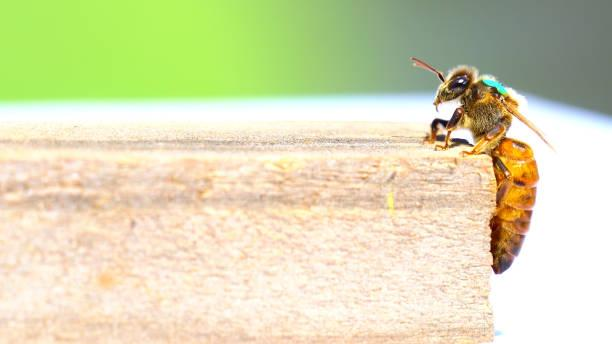Queen-Bee: (406, 25, 561, 278), (411, 57, 549, 273)
